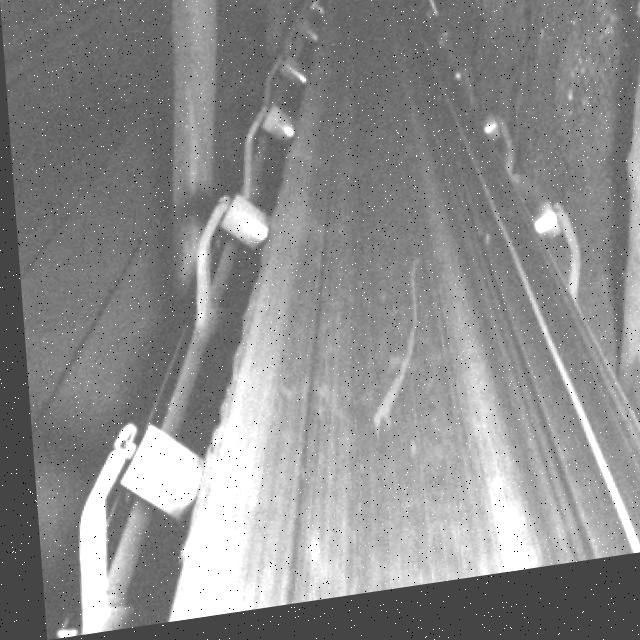bolt: (356, 270, 423, 445)
